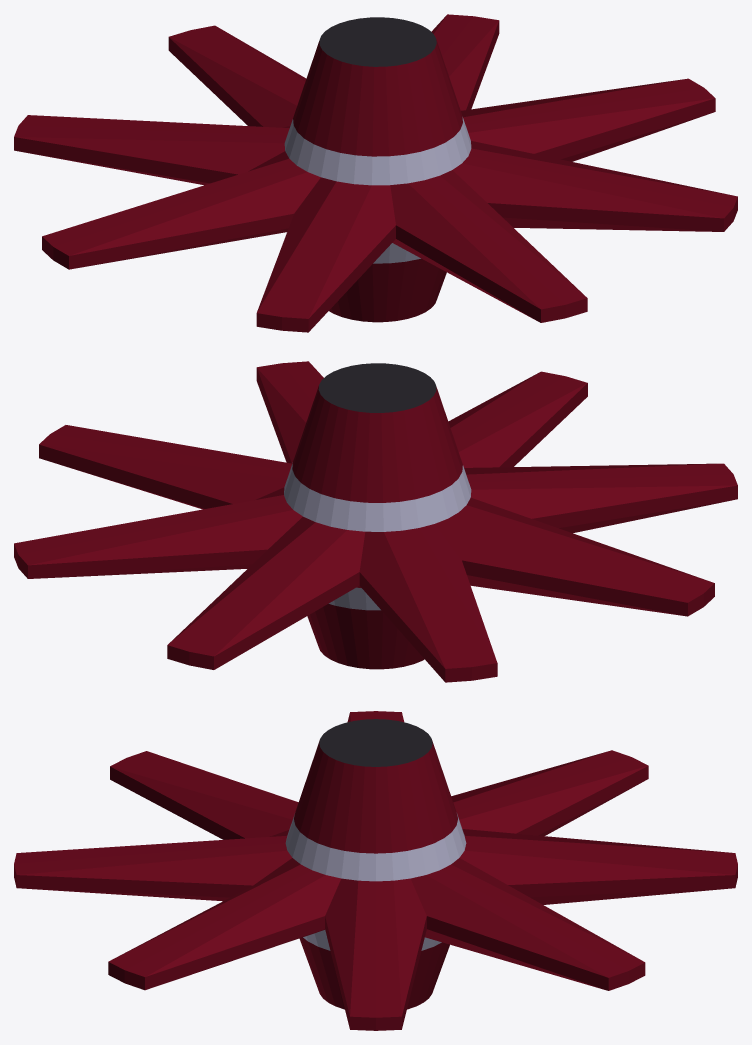
File: coleco.fbx
The picture shows the model from 3 angles, top to bottom: view 1: azimuth 30°, elevation 25°; view 2: azimuth 150°, elevation 25°; view 3: azimuth 270°, elevation 25°; orthographic projection. The views are drawn at different scales.
Parts seen in each view (by area): view 1: Цилиндр; view 2: Цилиндр; view 3: Цилиндр.
Part boxes in pixels (x1,y1,x2,y2): Цилиндр: [14, 14, 737, 332]; Цилиндр: [14, 361, 737, 682]; Цилиндр: [14, 711, 737, 1030].
Size of the model in its own units: 803 by 301 by 801.
